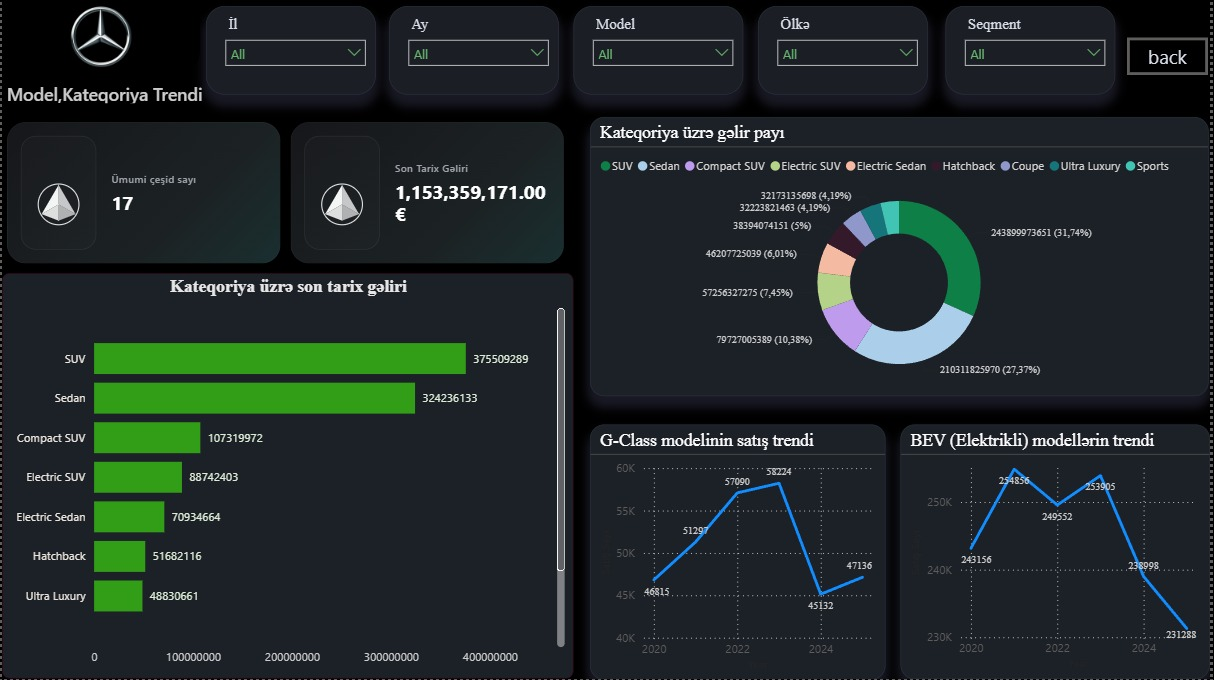

This screenshot's page, from the dashboard's own definition file:
{"tool":"powerbi","page":{"name":"Model və Kateqoriya Trendi","canvas":[1280,720],"ordinal":2},"visuals":[{"type":"slicer","fields":{"Values":["Tarix.Date.Variation.Date Hierarchy.Month"]},"box":[410,6,180,94],"z":0},{"type":"slicer","fields":{"Values":["Tarix.Date.Variation.Date Hierarchy.Year"]},"box":[216,6,180,94],"z":1000},{"type":"slicer","fields":{"Values":["MB_Model.Seqment"]},"box":[1000,6,180,94],"z":2000},{"type":"slicer","fields":{"Values":["MB_Model.Model_adı"]},"box":[606,6,180,94],"z":3000},{"type":"slicer","fields":{"Values":["MB_Ölkə.Ölkə_adı"]},"box":[802,6,180,94],"z":4000},{"type":"image","box":[0,0,210,78],"z":5000},{"type":"htmlContent443BE3AD55E043BF878BED274D3A6865","fields":{"content":["DAXs.Ümumi_Çeşid_Sayı_Premium_Card"]},"box":[0,124,300,180],"z":6000},{"type":"htmlContent443BE3AD55E043BF878BED274D3A6865","fields":{"content":["DAXs.Son_Tarix_Gəliri_Premium_Card"]},"box":[300,124,306,166],"z":7000},{"type":"clusteredBarChart","title":"Kateqoriya üzrə son tarix gəliri","fields":{"Category":["MB_Model.Kateqoriya"],"Y":["DAXs.Son Tarix Gəliri"]},"box":[0,290,606,430],"z":8000},{"type":"donutChart","title":"Kateqoriya üzrə gəlir payı","fields":{"Category":["MB_Model.Kateqoriya"],"Y":["DAXs.Ümumi gəlir (EUR)"]},"box":[624,124,656,296],"z":9000},{"type":"lineChart","title":"BEV (Elektrikli) modellərin trendi","fields":{"Category":["Tarix.Date.Variation.Date Hierarchy.Year"],"Y":["DAXs.Satış Sayı"]},"box":[952,450,328,270],"z":10000},{"type":"lineChart","title":"G-Class modelinin satış trendi","fields":{"Category":["Tarix.Date.Variation.Date Hierarchy.Year"],"Y":["DAXs.Satış Sayı"]},"box":[623.5,450.1,313.4,270.4],"z":11000},{"type":"textbox","title":"Model,Kateqoriya Trendi","box":[0,88,248,22],"z":12000},{"type":"actionButton","box":[1193,39.8,85.9,39.8],"z":13000}]}

Visuals, with their boxes in screenshot pixels (x1, y1, x2, y2), scaled from the page's 1280x720 canvas onto the 1214x680 screenshot:
slicer - Tarix.Date.Variation.Date Hierarchy.Month: left=389, top=6, right=560, bottom=94
slicer - Tarix.Date.Variation.Date Hierarchy.Year: left=205, top=6, right=376, bottom=94
slicer - MB_Model.Seqment: left=948, top=6, right=1119, bottom=94
slicer - MB_Model.Model_adı: left=575, top=6, right=745, bottom=94
slicer - MB_Ölkə.Ölkə_adı: left=761, top=6, right=931, bottom=94
image: left=0, top=0, right=199, bottom=74
htmlContent443BE3AD55E043BF878BED274D3A6865 - DAXs.Ümumi_Çeşid_Sayı_Premium_Card: left=0, top=117, right=285, bottom=287
htmlContent443BE3AD55E043BF878BED274D3A6865 - DAXs.Son_Tarix_Gəliri_Premium_Card: left=285, top=117, right=575, bottom=274
"Kateqoriya üzrə son tarix gəliri" clusteredBarChart: left=0, top=274, right=575, bottom=679
"Kateqoriya üzrə gəlir payı" donutChart: left=592, top=117, right=1213, bottom=397
"BEV (Elektrikli) modellərin trendi" lineChart: left=903, top=425, right=1213, bottom=679
"G-Class modelinin satış trendi" lineChart: left=591, top=425, right=889, bottom=679
"Model,Kateqoriya Trendi" textbox: left=0, top=83, right=235, bottom=104
actionButton: left=1131, top=38, right=1213, bottom=75
